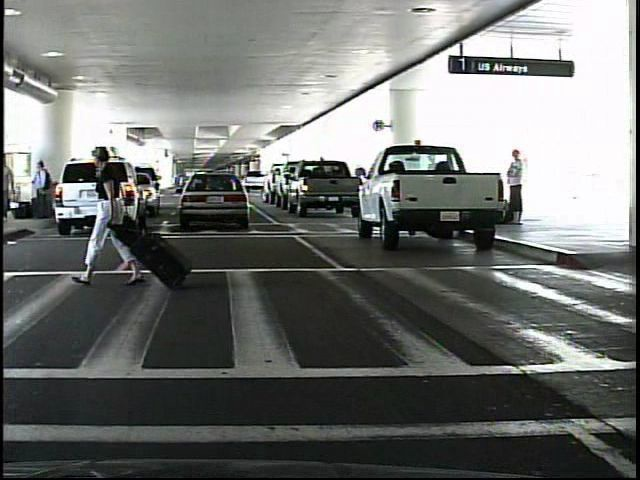person: (84, 144, 153, 290), (494, 151, 532, 226), (31, 158, 52, 221)
